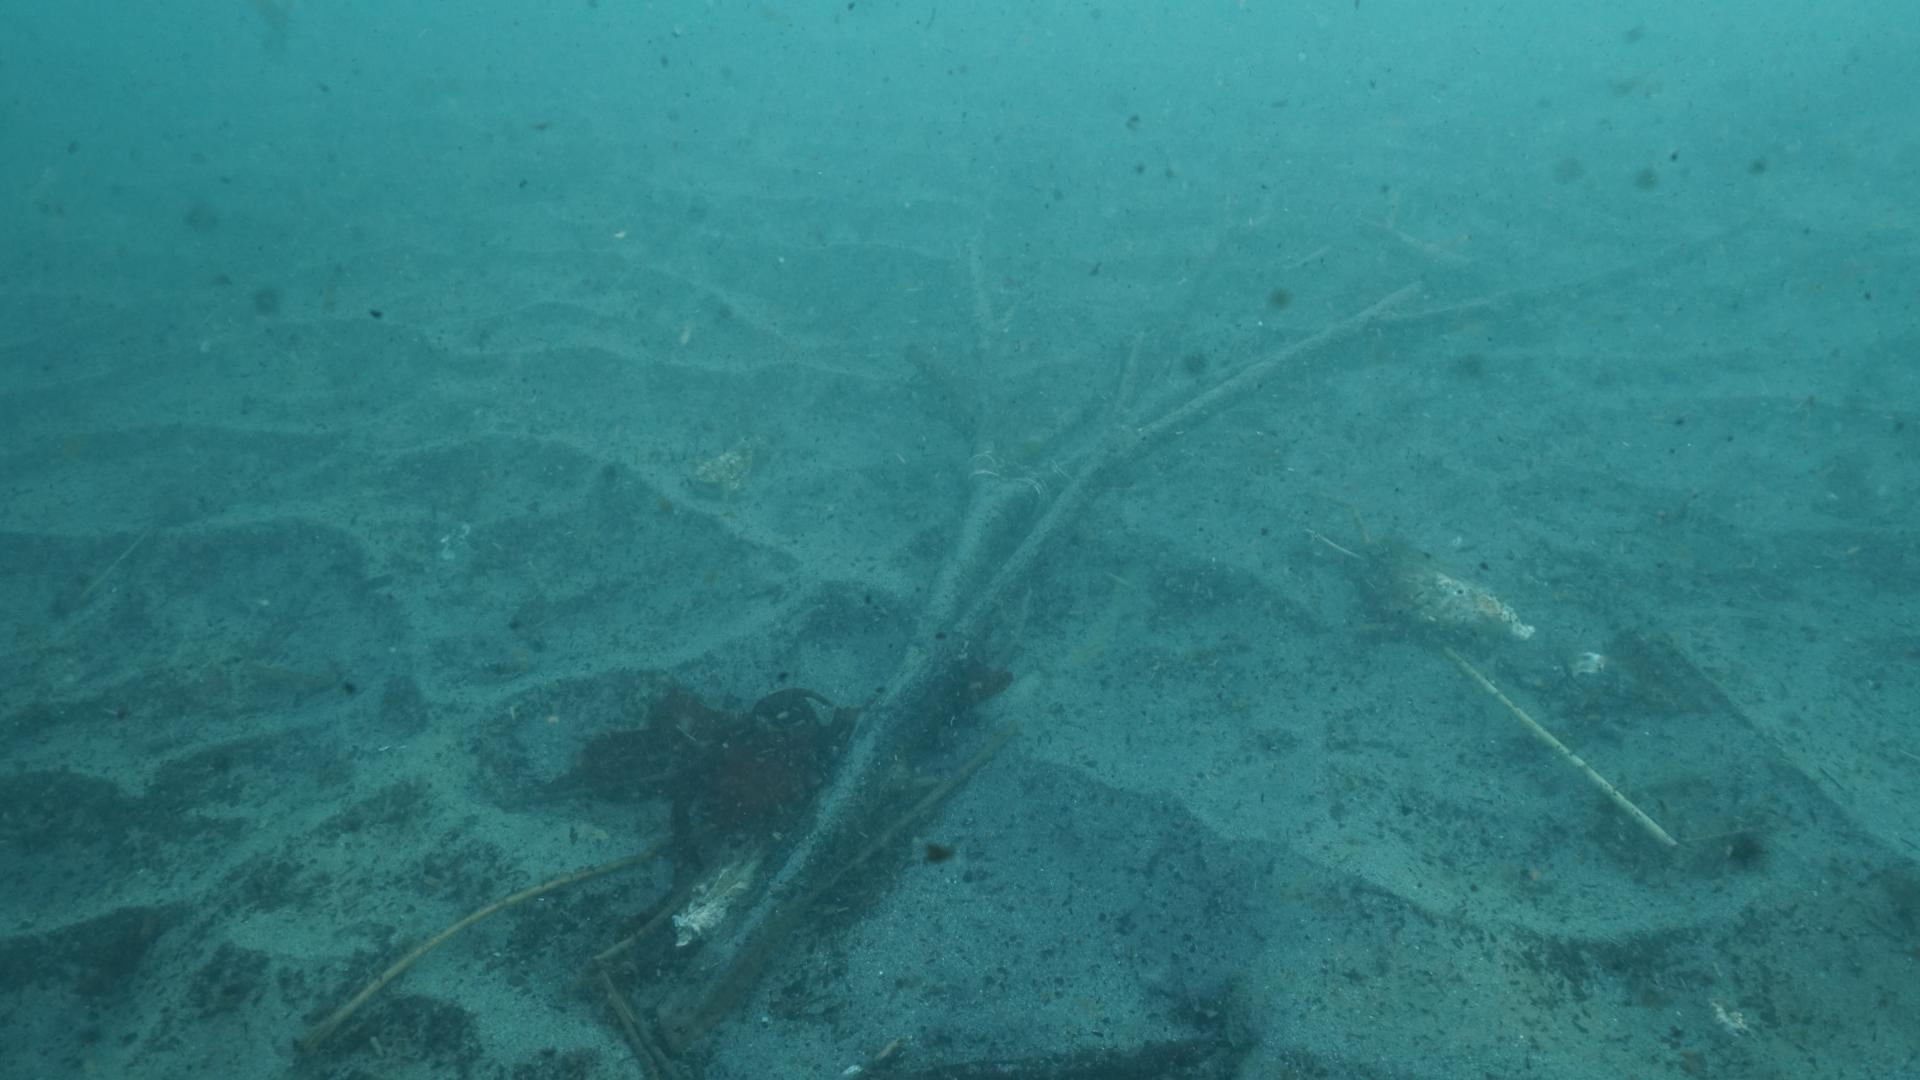wood: (673, 166, 1735, 1029)
